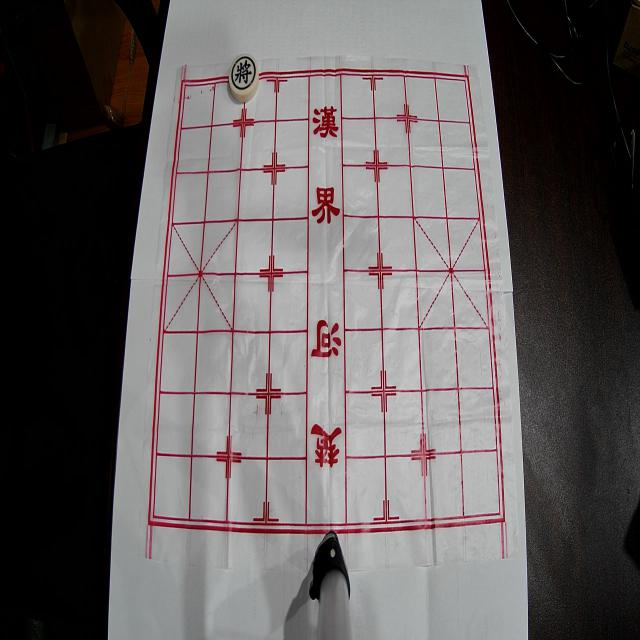black-general: (229, 54, 259, 102)
